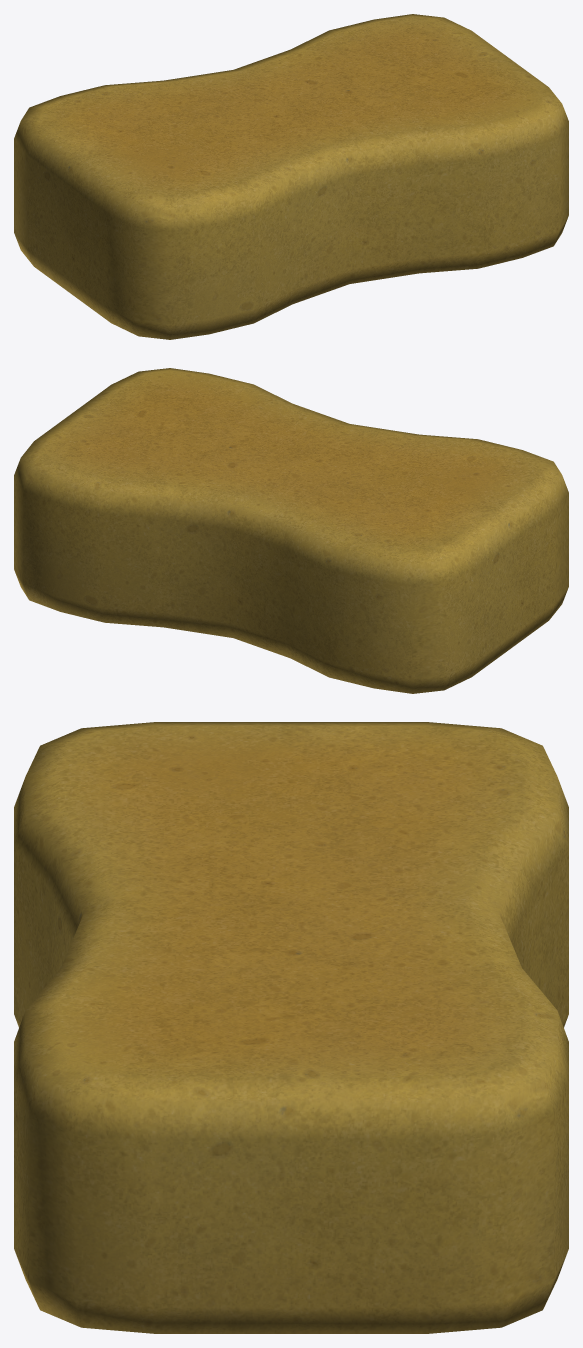
Rendered from SM_Sponge_01.fbx.
3 views of the same model, one above another, from view 1: azimuth 30°, elevation 25°; view 2: azimuth 150°, elevation 25°; view 3: azimuth 270°, elevation 25° (orthographic). The views are drawn at different scales.
Visible parts, largest first — view 1: SM_Sponge_01_LOD0; view 2: SM_Sponge_01_LOD0; view 3: SM_Sponge_01_LOD0.
Boxes of the visible parts, box(x1,y1,x2,y2) form: SM_Sponge_01_LOD0: box(14, 14, 568, 339); SM_Sponge_01_LOD0: box(14, 368, 568, 693); SM_Sponge_01_LOD0: box(14, 722, 568, 1333).
Size of the model in its own units: 20 by 12 by 6.
1 material, 1 textured.
